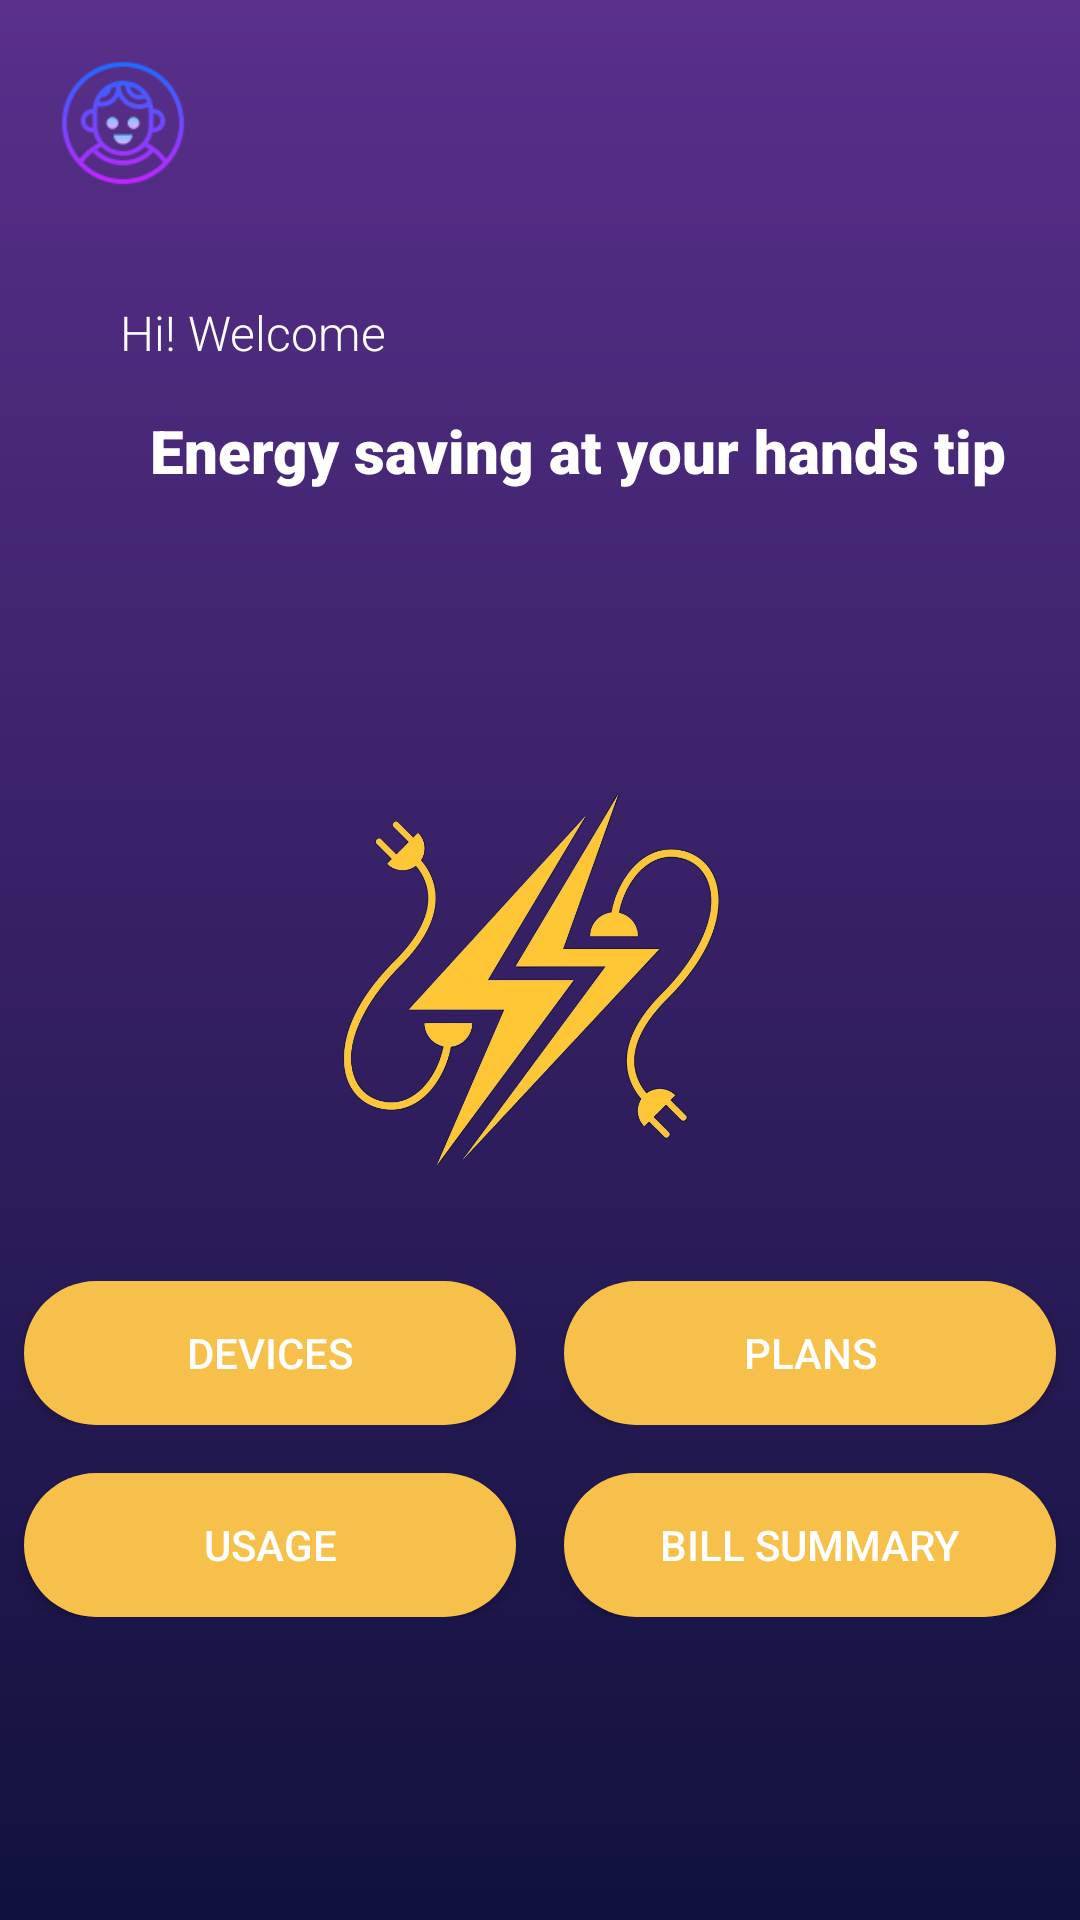

Icons on this 1080px x 1920px Android screen, each with its box as (x1, y1, x2, y2):
user: (62, 62, 184, 184)
